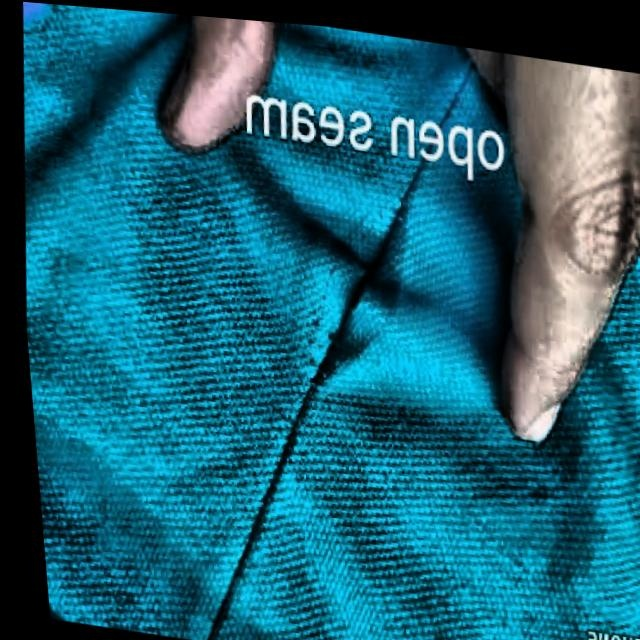seam: (247, 150, 453, 498)
